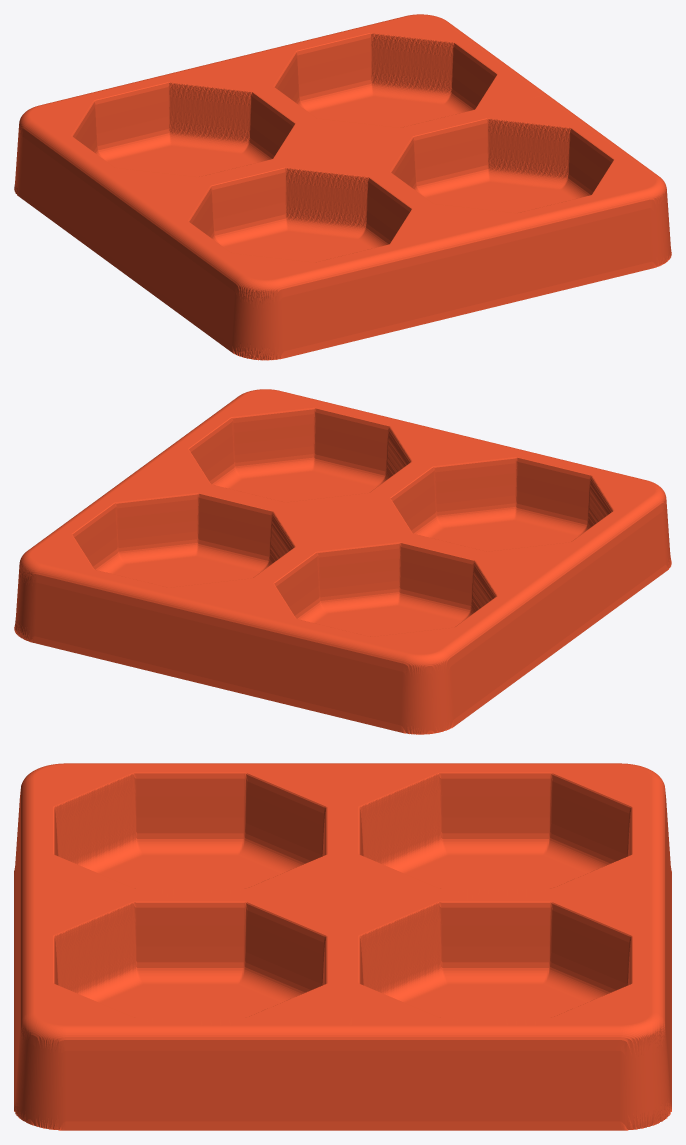
The model's file is mold.glb.
3 renders of one model, top to bottom at view 1: azimuth 30°, elevation 25°; view 2: azimuth 150°, elevation 25°; view 3: azimuth 270°, elevation 25°, orthographic. The views are drawn at different scales.
Visible parts, largest first — view 1: geometry_0; view 2: geometry_0; view 3: geometry_0.
Boxes of the visible parts, <box> form: geometry_0: <box>14,14,671,360</box>; geometry_0: <box>14,389,671,734</box>; geometry_0: <box>14,763,671,1130</box>.
Size of the model in its own units: 0.1144 by 0.0185 by 0.1144.
